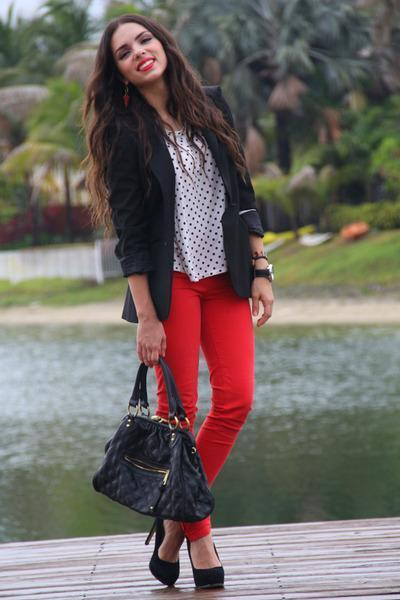bag: (93, 355, 214, 539)
jacket: (104, 95, 273, 323)
pants: (156, 271, 253, 542)
shirt: (165, 130, 225, 281)
shoe: (145, 522, 243, 592)
